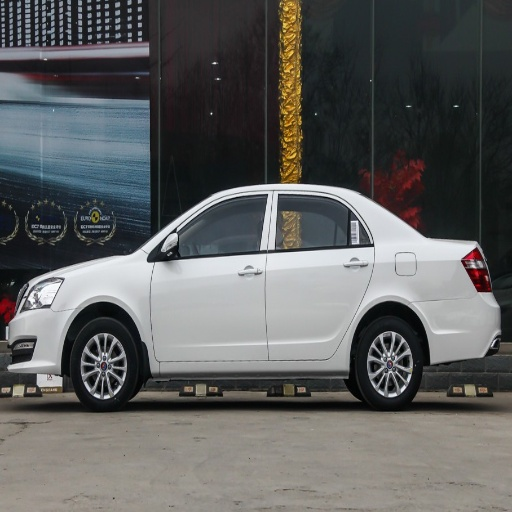back_bumper: (423, 292, 502, 370)
back_left_door: (266, 190, 375, 358)
front_left_door: (150, 191, 273, 363)
